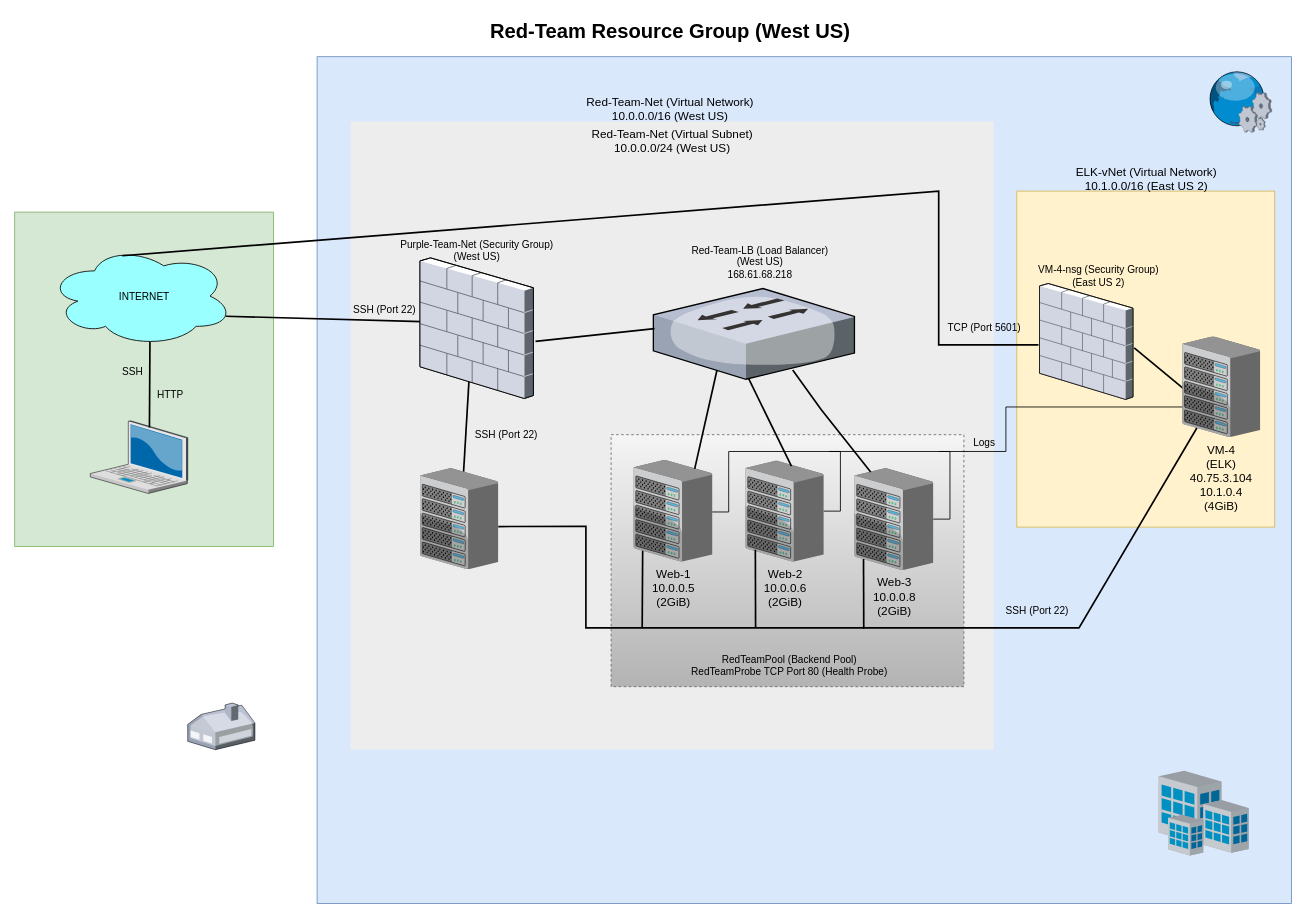
The diagram is 1306 pixels wide and 918 high, and some of its shapes have lost their labels. Each missing label, with the box of its shape:
Azure: (1207, 71, 1272, 132)
CLIENT (User): (90, 420, 187, 493)
ELK-vNet (Virtual Subnet) 10.1.0.0/24 (East US 2): (1016, 190, 1275, 527)
Jump-Box-Provisioner (Ansible: elastic_blackburn) 104.45.223.53 10.0.0.4 (1GiB): (420, 468, 498, 569)
